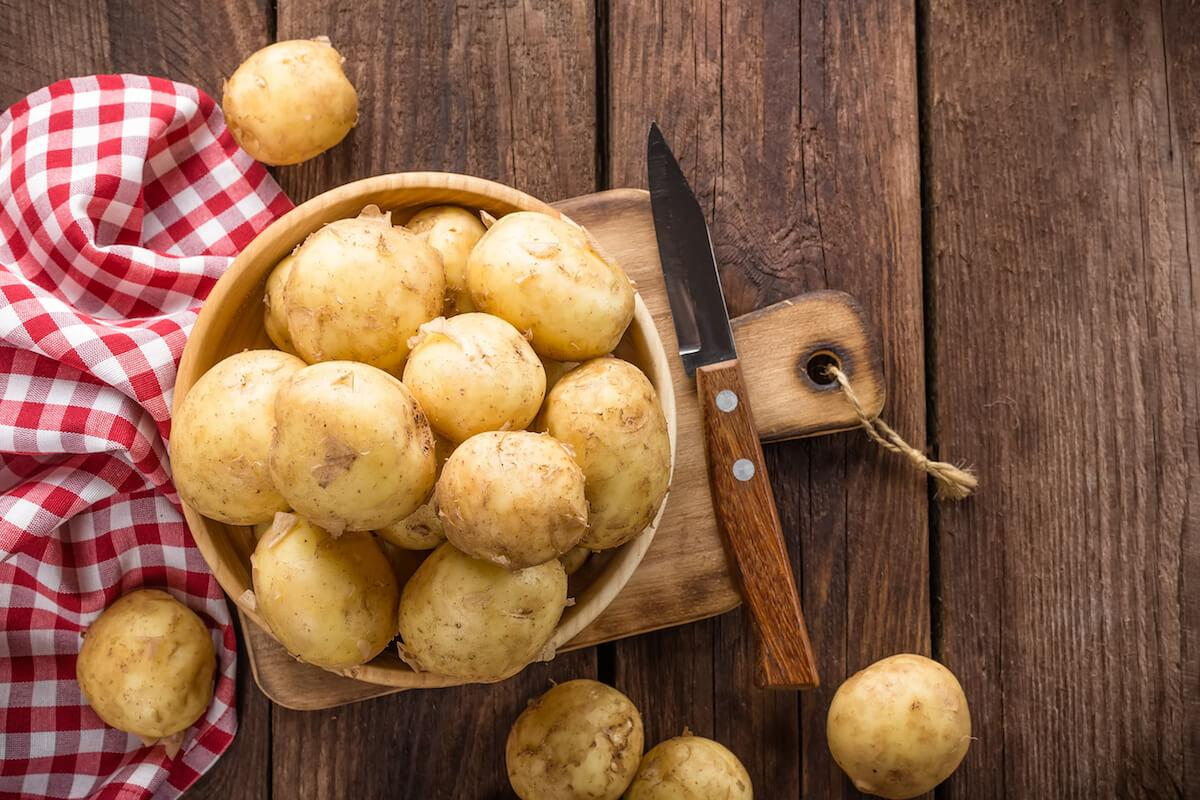potato: (540, 443, 814, 674), (519, 268, 831, 454), (838, 538, 1118, 709), (806, 355, 1024, 534), (429, 53, 667, 201), (1061, 712, 1200, 800)
